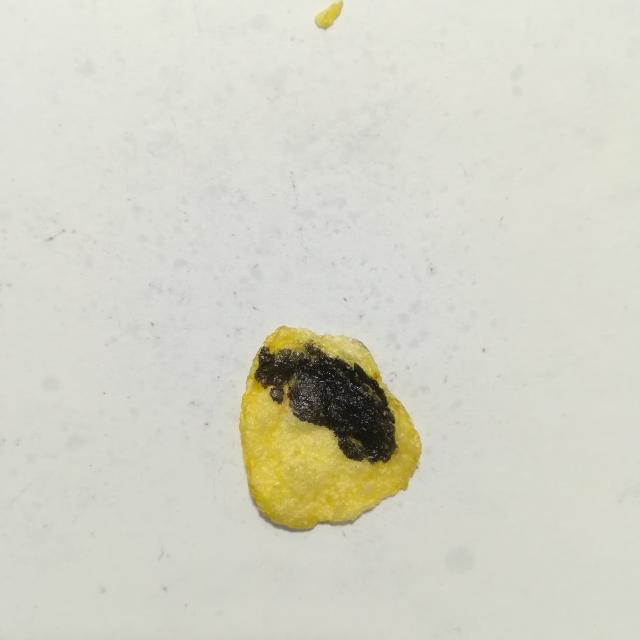chip: (239, 326, 421, 528)
damaged: (254, 343, 397, 462)
